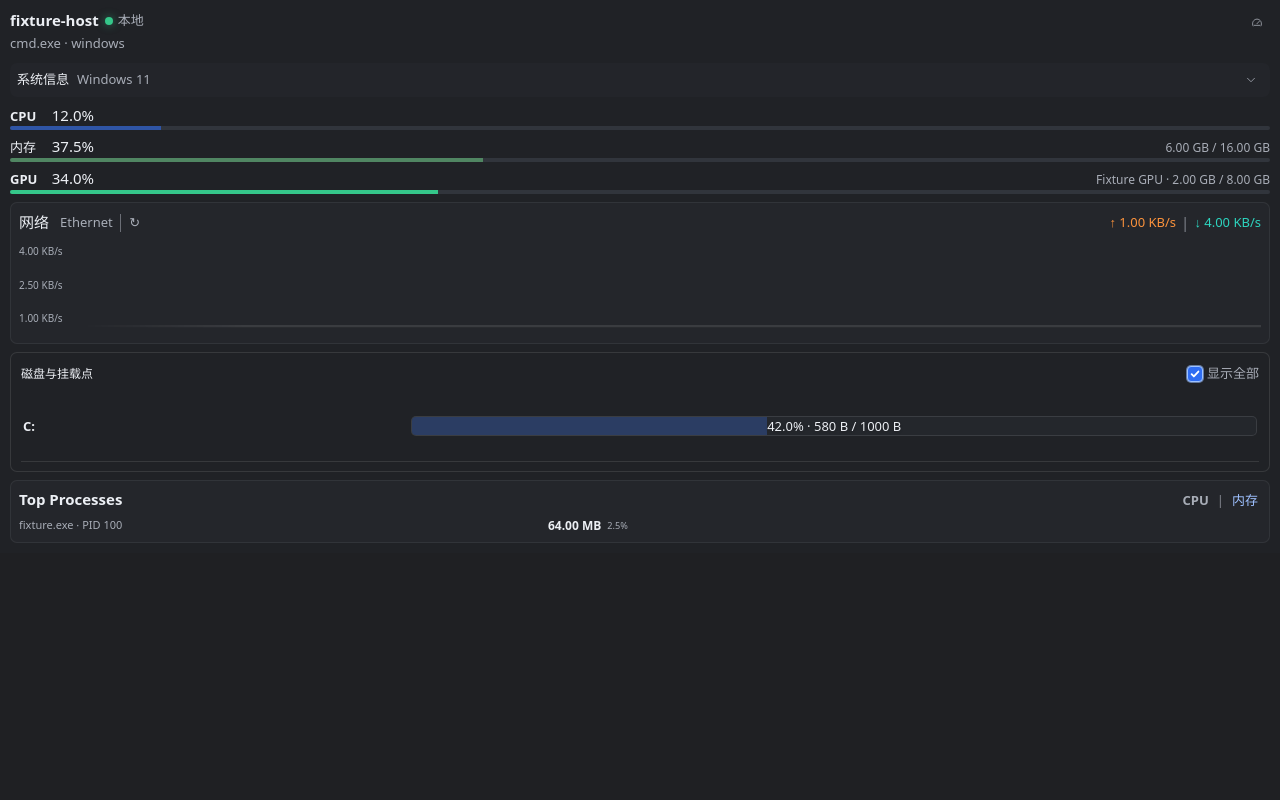
LocalMonitorSidebar › toggles Windows system details between one-line summary and expanded facts
Expected: the element with class "local-system-info" does not show "Build 22631"
Expected: the icon with class "app-icon--chevron-down" is shown, [1244,73,1258,87]
Click the button with class "system-info-summary" at (43, 79), box [10,63,1270,97]
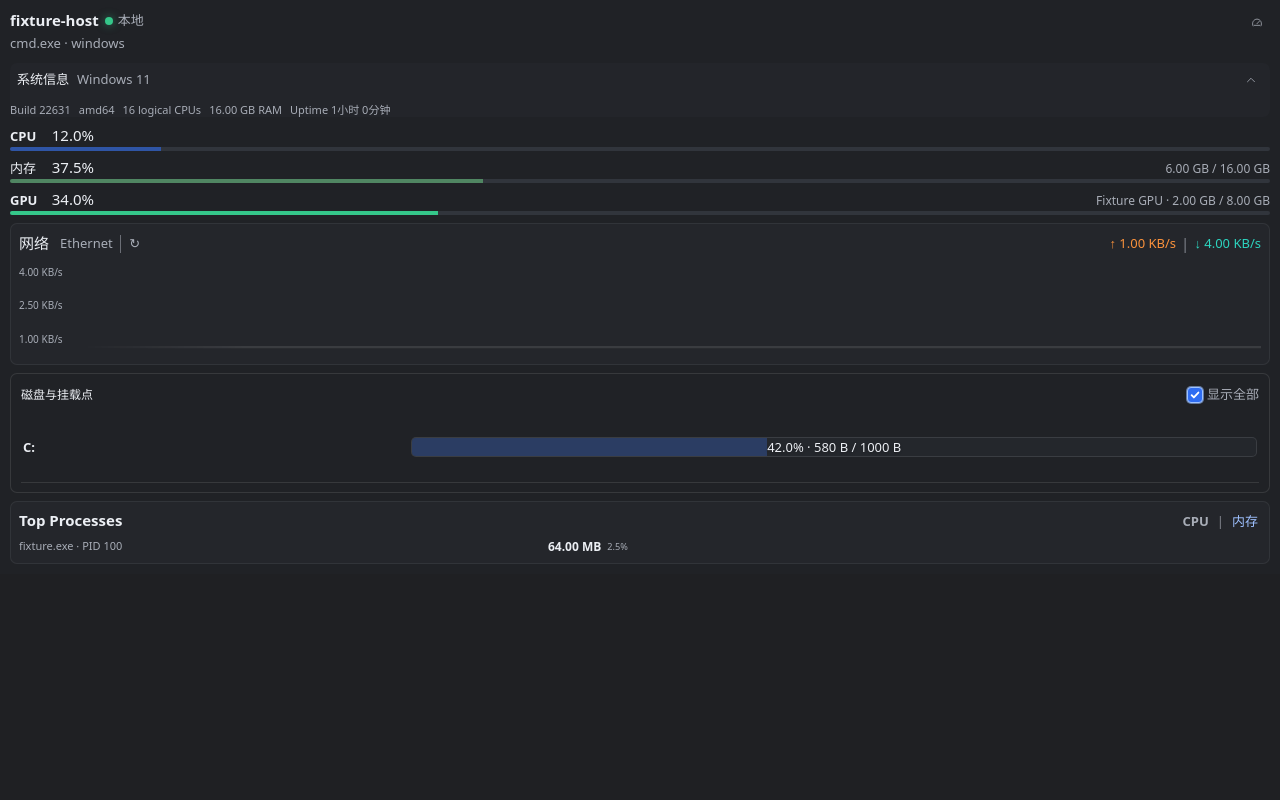
Expected: the element with class "local-system-detail" is shown, [10,102,390,117]
Expected: the element with class "local-system-info" shows "Build 22631", [10,102,71,117]
Expected: the element with class "local-system-info" shows "amd64", [79,102,114,117]
Click the button with class "system-info-summary" at (43, 79), box [10,63,1270,97]
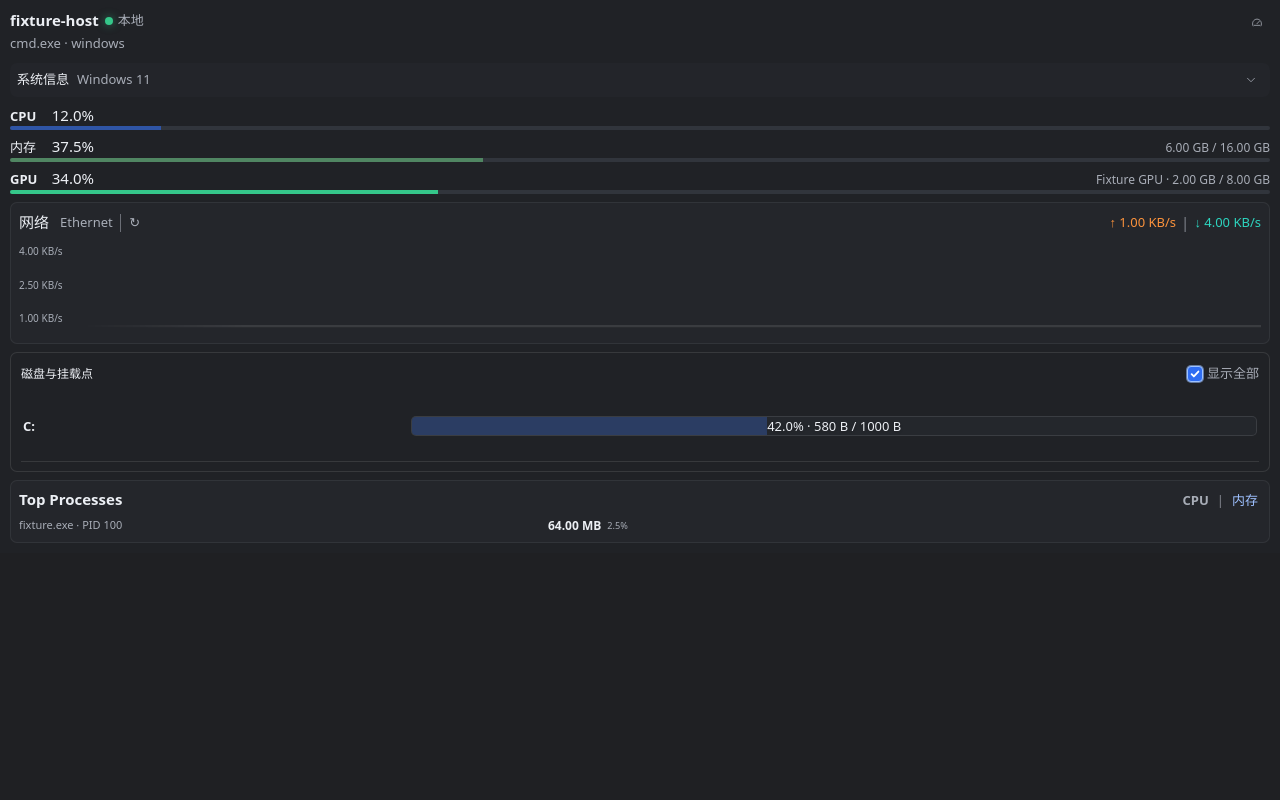
Expected: the icon with class "app-icon--chevron-down" is shown, [1244,73,1258,87]
Expected: the text with class "local-system-info" no longer shows "Build 22631"
